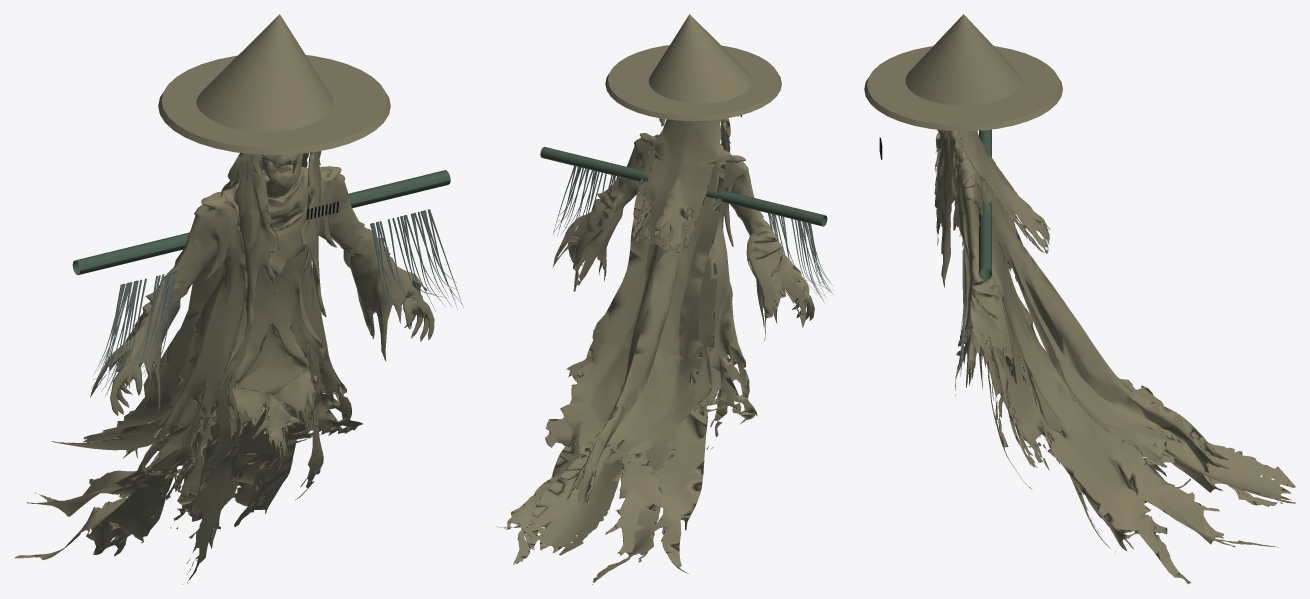
The model's file is 12-the-corn-patch.glb.
3 views of the same model, side by side, from view 1: azimuth 30°, elevation 25°; view 2: azimuth 150°, elevation 25°; view 3: azimuth 270°, elevation 25° (orthographic). The views are drawn at different scales.
Parts seen in each view (by area): view 1: sculpt (×3); view 2: sculpt (×3); view 3: sculpt (×2).
Boxes of the visible parts, x1,y1,x2,y2 form: sculpt (×3): (14, 14, 463, 584); sculpt (×3): (496, 14, 833, 584); sculpt (×2): (864, 14, 1295, 584).
Bounding box in the file's own units: 2.52 × 4.09 × 2.95.
